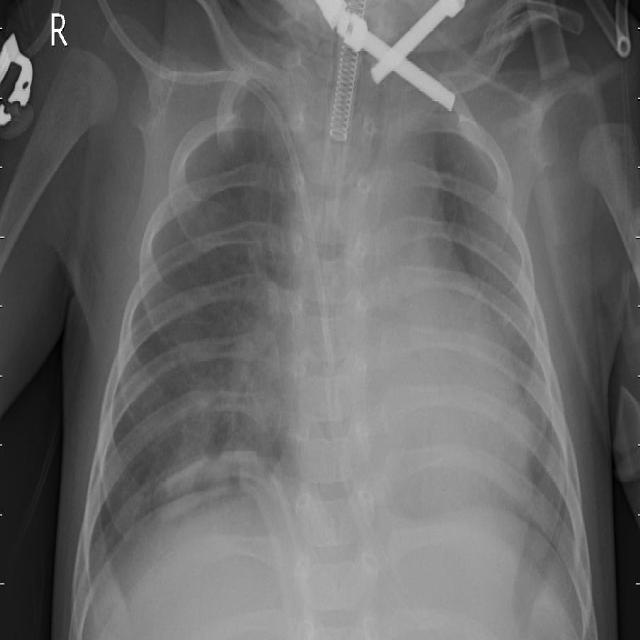low-pneumonia: (146, 266, 264, 521), (455, 144, 563, 417), (518, 481, 590, 600)
